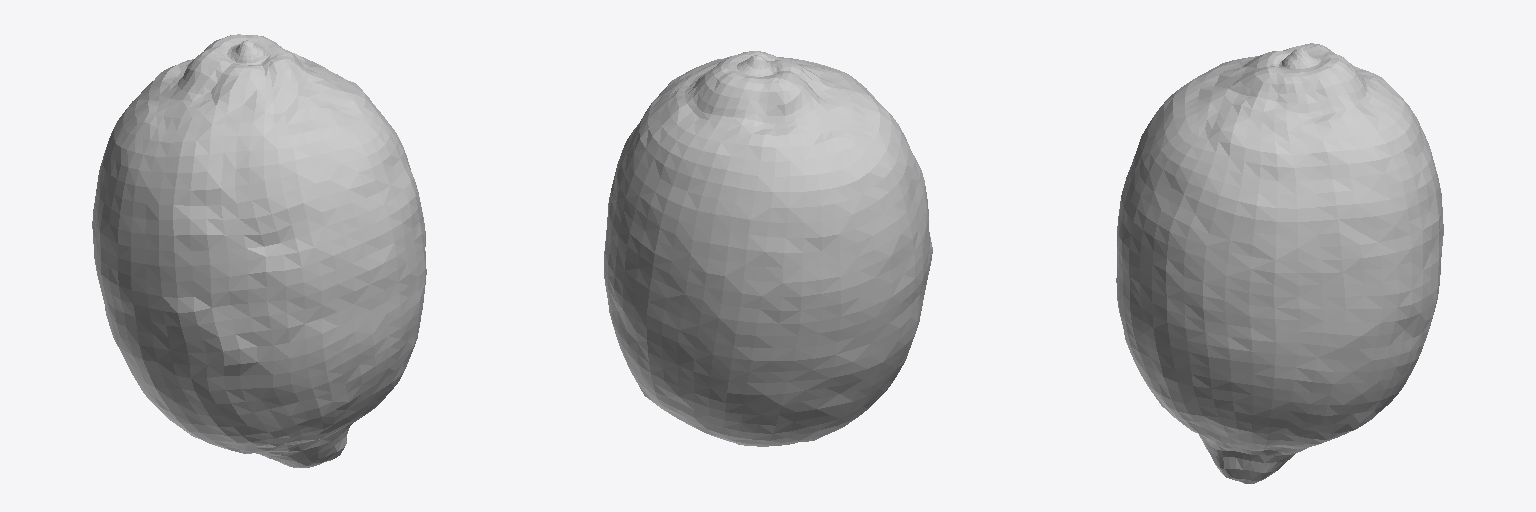
The model's file is lemon_4k.obj.
The picture shows the model from 3 angles: view 1: azimuth 30°, elevation 25°; view 2: azimuth 150°, elevation 25°; view 3: azimuth 270°, elevation 25°; orthographic projection.
Parts seen in each view (by area): view 1: lemon; view 2: lemon; view 3: lemon.
Part boxes in pixels (x1,y1,x2,y2): lemon: (92, 34, 426, 467); lemon: (604, 51, 932, 446); lemon: (1116, 43, 1443, 483).
Bounding box in the file's own units: 0.0687 × 0.0954 × 0.0683.